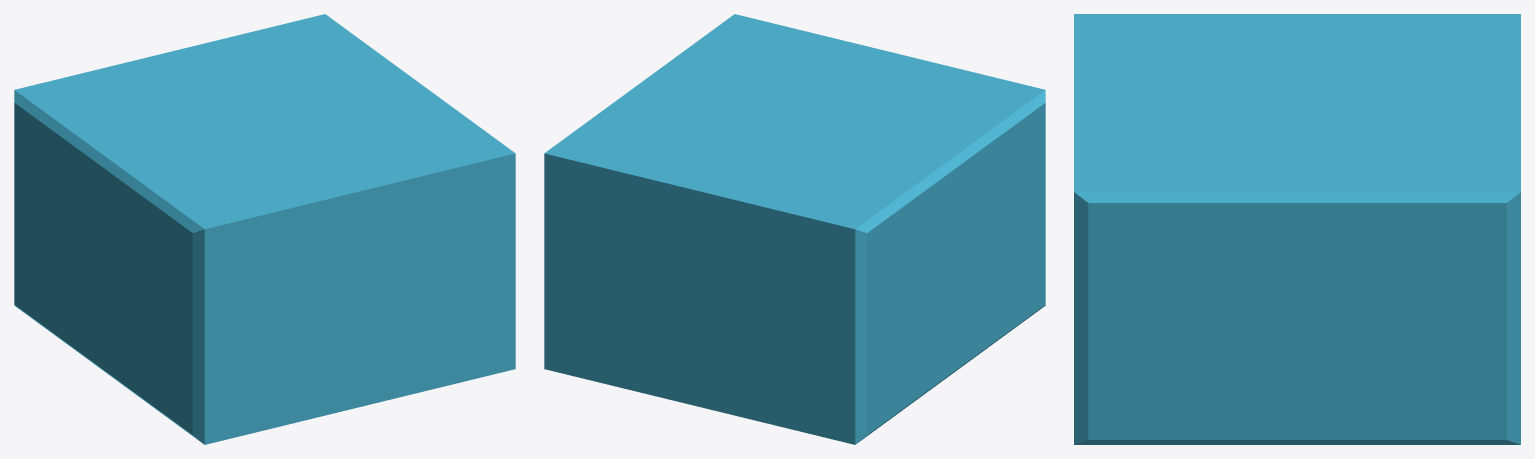
Rendered from Itr_Couch_Inside_Seat_Middle_05.FBX.
3 renders of one model, left to right at view 1: azimuth 30°, elevation 25°; view 2: azimuth 150°, elevation 25°; view 3: azimuth 270°, elevation 25°, orthographic. The views are drawn at different scales.
Visible parts, largest first — view 1: Itr_Couch_Inside_Seat_Middle_05; view 2: Itr_Couch_Inside_Seat_Middle_05; view 3: Itr_Couch_Inside_Seat_Middle_05.
Boxes of the visible parts, x1,y1,x2,y2 form: Itr_Couch_Inside_Seat_Middle_05: (14,14,515,444); Itr_Couch_Inside_Seat_Middle_05: (544,14,1045,444); Itr_Couch_Inside_Seat_Middle_05: (1074,14,1520,444).
Bounding box in the file's own units: 19.21 × 12.29 × 19.68.
